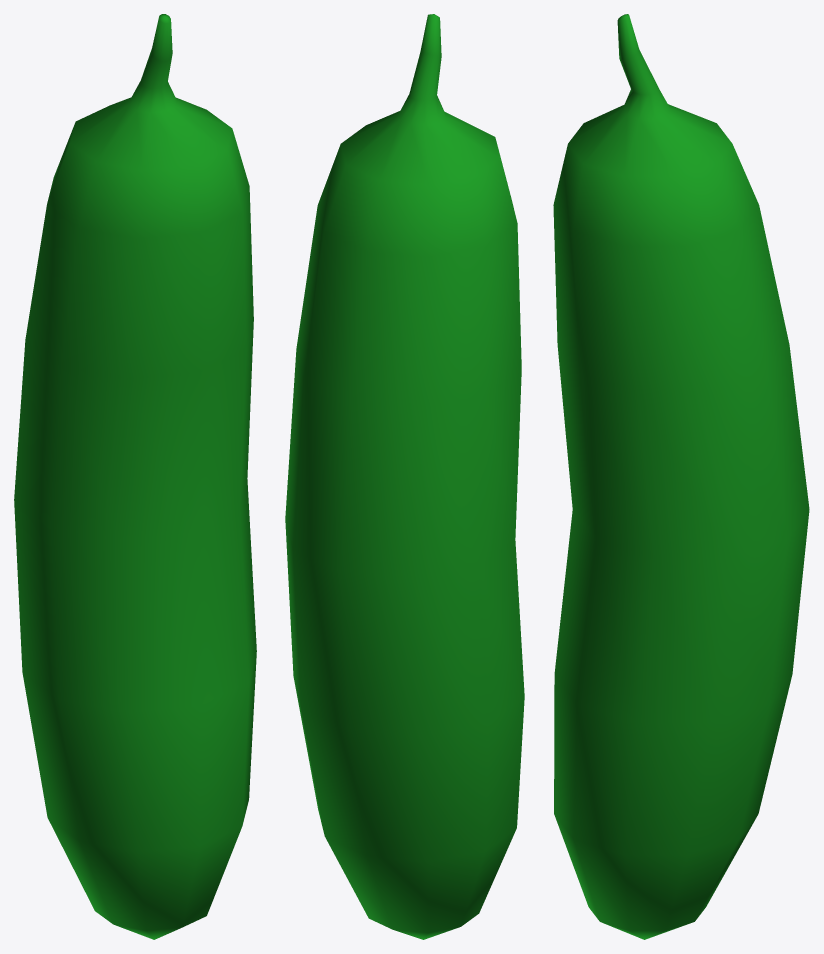
The model's file is Cetriolo.fbx.
3 views of the same model, side by side, from view 1: azimuth 30°, elevation 25°; view 2: azimuth 150°, elevation 25°; view 3: azimuth 270°, elevation 25° (orthographic).
Visible parts, largest first — view 1: Cetriolo; view 2: Cetriolo; view 3: Cetriolo.
Boxes of the visible parts, box(x1,y1,x2,y2) form: Cetriolo: box(14, 14, 256, 939); Cetriolo: box(285, 14, 524, 939); Cetriolo: box(553, 14, 809, 939).
Size of the model in its own units: 4.78 by 21.56 by 5.41.
